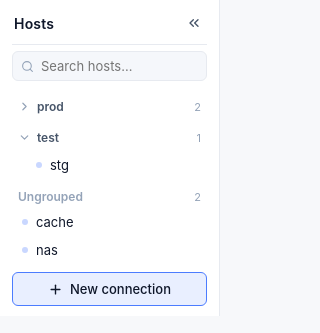
Test: Drawer — search › expands a collapsed group that has a hit
Expected: the button "web1" is not shown
Type "web1" into the field labelled "Search hosts" at (110, 66), box [12,51,207,81]
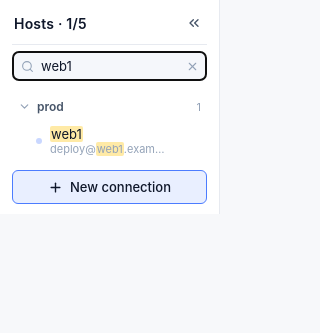
Result: the button "web1 deploy@web1.example.com" is shown at [28,120,175,162]
